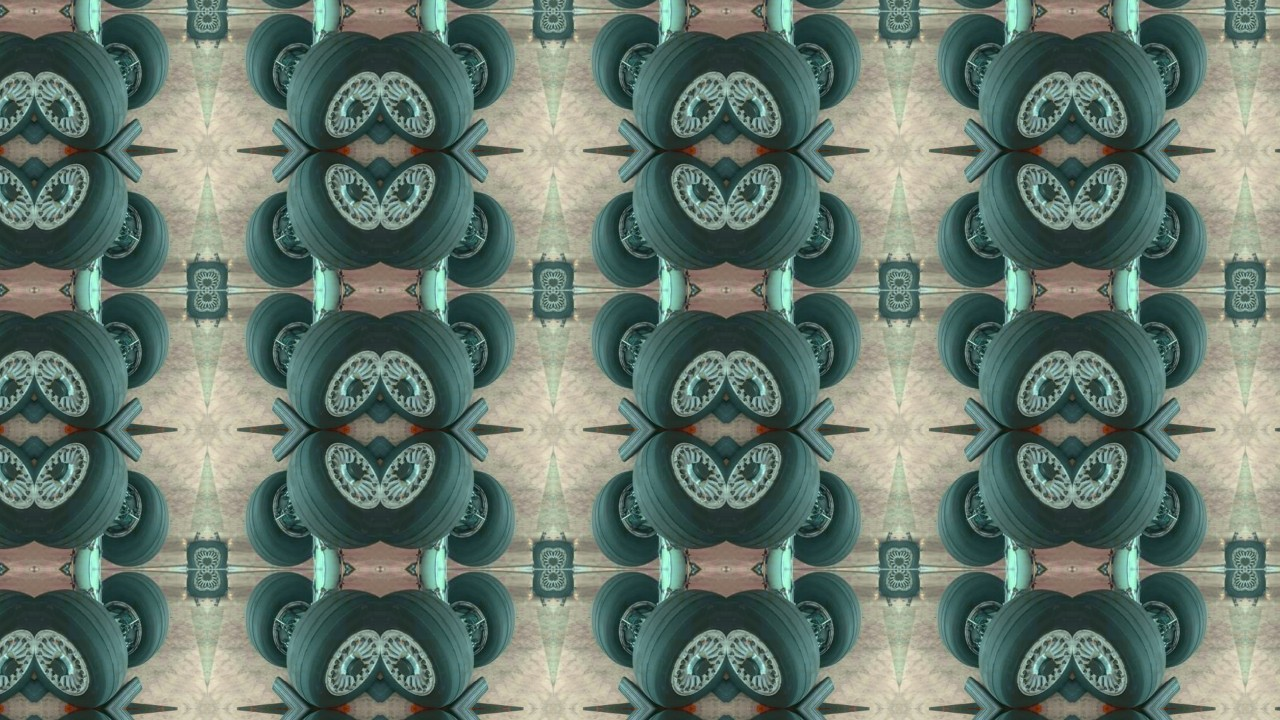chock: (83, 116, 143, 150), (269, 116, 329, 150), (430, 116, 490, 150), (616, 116, 676, 150), (777, 116, 837, 150), (963, 116, 1023, 150), (1124, 116, 1184, 150), (83, 150, 143, 184), (269, 150, 329, 184), (430, 150, 490, 184), (616, 150, 676, 184), (777, 150, 837, 184), (963, 150, 1023, 184), (1124, 150, 1184, 184), (83, 396, 143, 430), (269, 396, 329, 430), (430, 396, 490, 430), (616, 396, 676, 430), (777, 396, 837, 430), (963, 396, 1023, 430), (1124, 396, 1184, 430), (83, 430, 143, 464), (269, 430, 329, 464), (430, 430, 490, 464), (616, 430, 676, 464), (777, 430, 837, 464), (963, 430, 1023, 464), (1124, 430, 1184, 464), (83, 676, 143, 710), (269, 676, 329, 710), (430, 676, 490, 710), (616, 676, 676, 710), (777, 676, 837, 710), (963, 676, 1023, 710), (1124, 676, 1184, 710), (3, 112, 33, 144), (379, 112, 409, 144), (726, 112, 756, 144), (1044, 112, 1074, 144), (3, 156, 33, 188), (379, 156, 409, 188), (726, 156, 756, 188), (1044, 156, 1074, 188), (3, 392, 33, 424), (379, 392, 409, 424), (726, 392, 756, 424), (1044, 392, 1074, 424), (3, 436, 33, 468), (379, 436, 409, 468), (726, 436, 756, 468), (1044, 436, 1074, 468), (3, 672, 33, 704), (379, 672, 409, 704), (726, 672, 756, 704), (1044, 672, 1074, 704), (33, 112, 62, 144), (350, 112, 379, 144), (697, 112, 726, 144), (1074, 112, 1103, 144), (33, 156, 62, 188), (350, 156, 379, 188), (697, 156, 726, 188), (1074, 156, 1103, 188), (33, 392, 62, 424), (350, 392, 379, 424), (697, 392, 726, 424), (1074, 392, 1103, 424), (33, 436, 62, 468), (350, 436, 379, 468), (697, 436, 726, 468), (1074, 436, 1103, 468), (33, 672, 62, 704), (350, 672, 379, 704), (697, 672, 726, 704), (1074, 672, 1103, 704), (83, 710, 143, 720), (269, 710, 329, 720), (430, 710, 490, 720), (616, 710, 676, 720), (777, 710, 837, 720), (963, 710, 1023, 720), (1124, 710, 1184, 720), (3, 716, 33, 720), (379, 716, 409, 720), (726, 716, 756, 720), (1044, 716, 1074, 720), (33, 716, 62, 720), (350, 716, 379, 720), (697, 716, 726, 720), (1074, 716, 1103, 720)
wheel: (32, 31, 127, 150), (285, 31, 380, 150), (632, 31, 727, 150), (1073, 31, 1168, 150), (32, 150, 127, 269), (285, 150, 380, 269), (632, 150, 727, 269), (1073, 150, 1168, 269), (32, 311, 127, 430), (285, 311, 380, 430), (632, 311, 727, 430), (1073, 311, 1168, 430), (32, 430, 127, 549), (285, 430, 380, 549), (632, 430, 727, 549), (1073, 430, 1168, 549), (32, 591, 127, 710), (285, 591, 380, 710), (632, 591, 727, 710), (1073, 591, 1168, 710), (380, 31, 474, 150), (727, 31, 821, 150), (979, 31, 1073, 150), (380, 150, 474, 269), (727, 150, 821, 269), (979, 150, 1073, 269), (380, 311, 474, 430), (727, 311, 821, 430), (979, 311, 1073, 430), (380, 430, 474, 549), (727, 430, 821, 549), (979, 430, 1073, 549), (380, 591, 474, 710), (727, 591, 821, 710), (979, 591, 1073, 710), (93, 12, 174, 111), (238, 12, 319, 111), (440, 12, 521, 111), (585, 12, 666, 111), (787, 12, 868, 111), (932, 12, 1013, 111), (1134, 12, 1215, 111), (93, 189, 174, 288), (238, 189, 319, 288), (440, 189, 521, 288), (585, 189, 666, 288), (787, 189, 868, 288), (932, 189, 1013, 288), (1134, 189, 1215, 288), (93, 292, 174, 391), (238, 292, 319, 391), (440, 292, 521, 391), (585, 292, 666, 391), (787, 292, 868, 391), (932, 292, 1013, 391), (1134, 292, 1215, 391), (93, 469, 174, 568), (238, 469, 319, 568), (440, 469, 521, 568), (585, 469, 666, 568), (787, 469, 868, 568), (932, 469, 1013, 568), (1134, 469, 1215, 568), (93, 572, 174, 671), (238, 572, 319, 671), (440, 572, 521, 671), (585, 572, 666, 671), (787, 572, 868, 671), (932, 572, 1013, 671), (1134, 572, 1215, 671), (0, 31, 32, 150), (0, 150, 32, 269), (0, 311, 32, 430), (0, 430, 32, 549), (0, 591, 32, 710), (182, 10, 206, 39), (206, 10, 230, 39), (529, 10, 553, 39), (553, 10, 577, 39), (876, 10, 900, 39), (900, 10, 924, 39), (1223, 10, 1247, 39), (1247, 10, 1271, 39), (182, 261, 206, 290), (206, 261, 230, 290), (529, 261, 553, 290), (553, 261, 577, 290), (876, 261, 900, 290), (900, 261, 924, 290), (1223, 261, 1247, 290), (1247, 261, 1271, 290), (182, 290, 206, 319), (206, 290, 230, 319), (529, 290, 553, 319), (553, 290, 577, 319), (876, 290, 900, 319), (900, 290, 924, 319), (1223, 290, 1247, 319), (1247, 290, 1271, 319), (182, 541, 206, 570), (206, 541, 230, 570), (529, 541, 553, 570), (553, 541, 577, 570), (876, 541, 900, 570), (900, 541, 924, 570), (1223, 541, 1247, 570), (1247, 541, 1271, 570), (182, 570, 206, 599), (206, 570, 230, 599), (529, 570, 553, 599), (553, 570, 577, 599), (876, 570, 900, 599), (900, 570, 924, 599), (1223, 570, 1247, 599), (1247, 570, 1271, 599), (182, 0, 206, 10), (206, 0, 230, 10), (529, 0, 553, 10), (553, 0, 577, 10), (876, 0, 900, 10), (900, 0, 924, 10), (1223, 0, 1247, 10), (1247, 0, 1271, 10)
